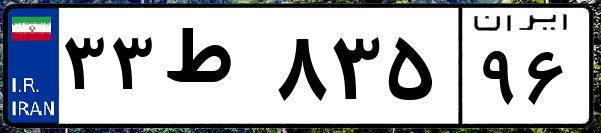3: (330, 28, 385, 110), (57, 26, 110, 100), (110, 28, 158, 98)
5: (385, 28, 445, 110)
6: (525, 38, 570, 115)
8: (270, 28, 330, 110)
9: (475, 38, 525, 113)
ط: (158, 20, 270, 120)
